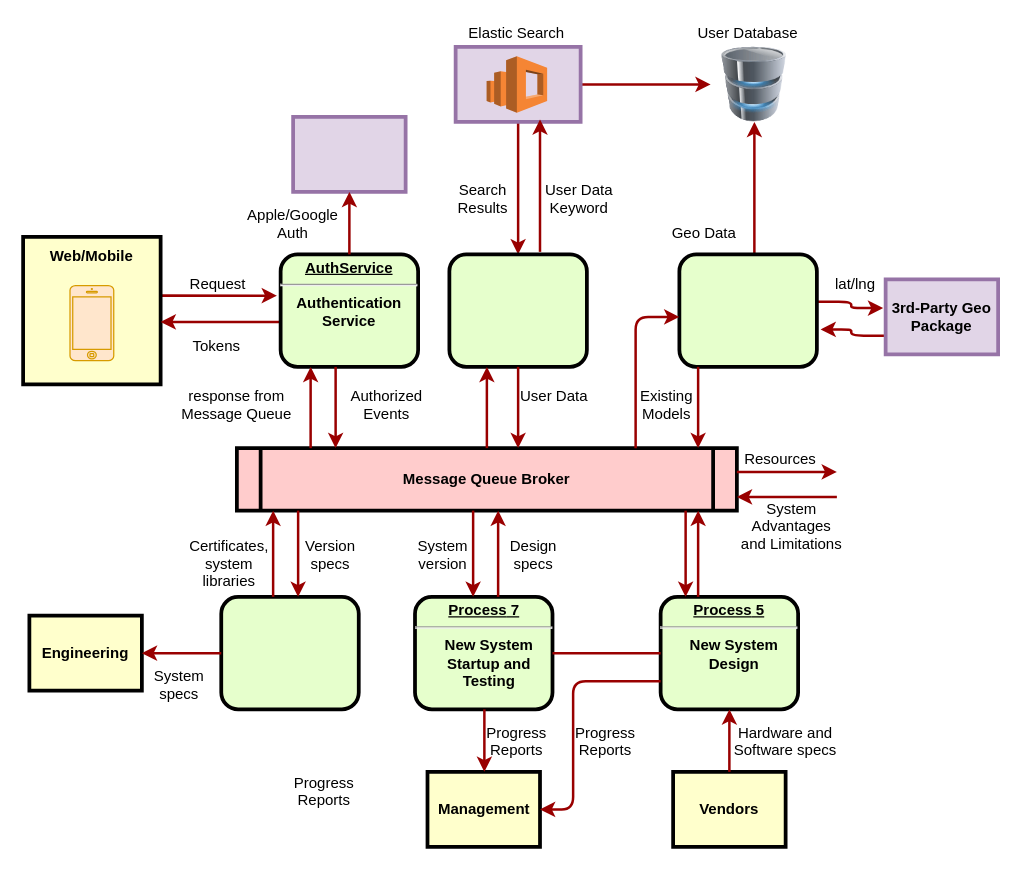
This 1021x870 diagram has some shape labels left out. Each missing label, with the centre of its shape:
"3rd-Party Auth Package" belongs at (349,153).
"GeoService Detail Chosen Solution" belongs at (747,310).
"Process 6 New System Construction" belongs at (289,652).
"UserDataService Database CRUD Operations" belongs at (517,310).
